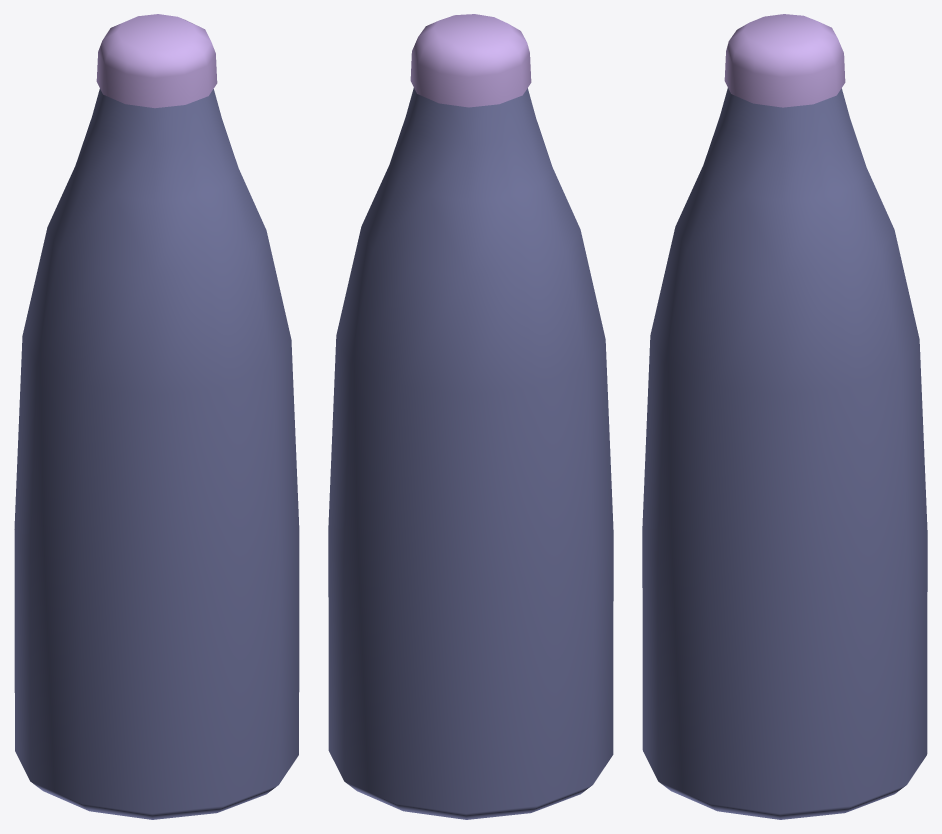
The model's file is Bottle_10.glb.
3 views of the same model, side by side, from view 1: azimuth 30°, elevation 25°; view 2: azimuth 150°, elevation 25°; view 3: azimuth 270°, elevation 25° (orthographic).
Visible parts, largest first — view 1: Bottle_10; view 2: Bottle_10; view 3: Bottle_10.
Boxes of the visible parts, x1=… form: Bottle_10: x1=14, y1=14, x2=299, y2=819; Bottle_10: x1=328, y1=14, x2=613, y2=819; Bottle_10: x1=642, y1=14, x2=927, y2=819.
Size of the model in its own units: 0.0921 by 0.2593 by 0.091.
1 material, 1 textured.
